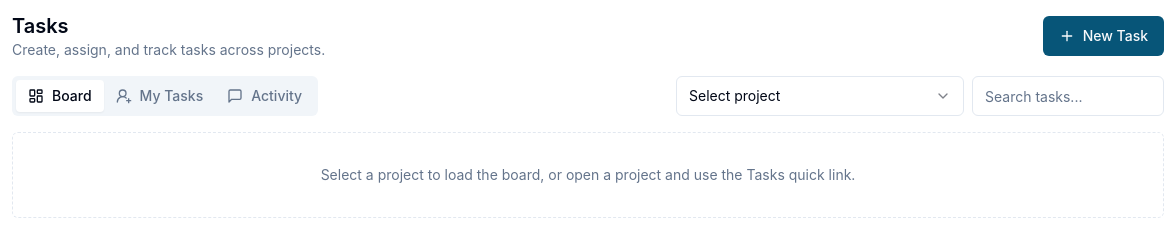
Test: TasksPage › shows activity tab content
Click the tab "Activity" at point(265, 96), box [215,80,314,112]
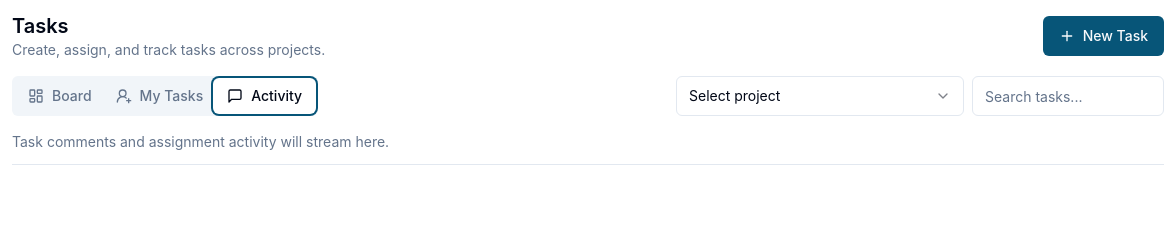
Expected: the text "Task comments and assignment activity will stream here." is shown, [12,133,389,150]
